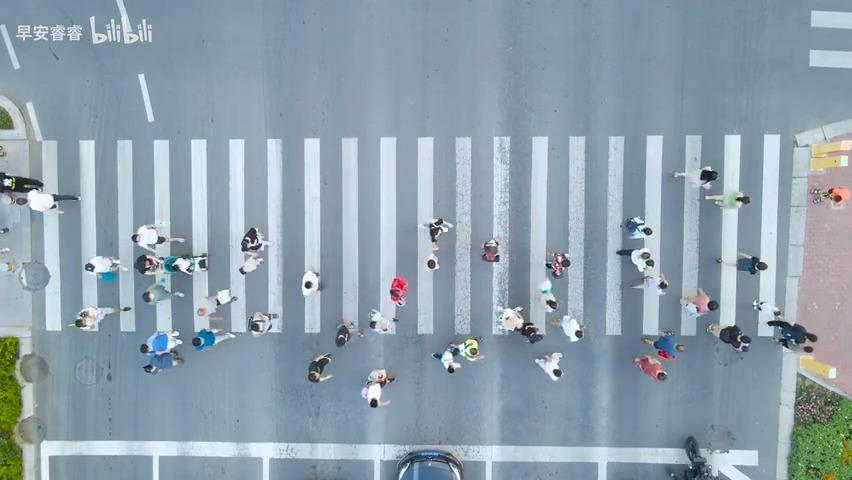Civilian: (3, 188, 81, 214), (495, 303, 539, 345), (134, 253, 208, 276), (766, 319, 817, 352), (130, 223, 185, 251), (68, 305, 131, 329), (706, 322, 751, 353), (714, 250, 767, 275), (641, 330, 684, 359), (196, 288, 238, 317), (679, 287, 718, 318), (671, 165, 718, 189), (191, 327, 236, 351), (84, 255, 127, 280), (142, 349, 184, 374), (615, 247, 654, 272), (0, 171, 44, 193), (448, 335, 485, 361), (633, 353, 667, 381), (704, 189, 750, 209), (630, 272, 668, 296), (141, 283, 184, 304), (360, 379, 391, 408), (420, 247, 451, 276), (551, 314, 583, 342), (431, 344, 461, 373), (810, 185, 851, 206), (240, 226, 273, 252), (534, 351, 563, 380), (334, 318, 363, 347), (307, 352, 333, 382), (247, 311, 278, 336), (620, 216, 652, 239), (544, 250, 570, 278), (427, 216, 453, 243), (538, 278, 558, 312), (366, 368, 395, 387), (752, 299, 781, 318), (389, 276, 407, 306), (238, 254, 263, 275), (368, 308, 389, 332), (481, 236, 500, 262), (301, 269, 319, 296)
